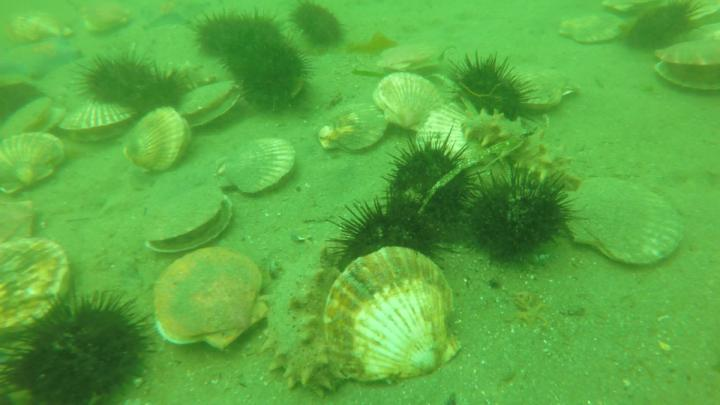echinus: (465, 170, 573, 267), (329, 197, 453, 276), (388, 131, 469, 240), (226, 33, 309, 107), (446, 49, 530, 119), (78, 47, 157, 108), (620, 1, 706, 57), (190, 7, 252, 62), (287, 2, 349, 56), (129, 71, 189, 116)
holothurian: (262, 224, 352, 394), (461, 105, 580, 191)
scallop: (329, 244, 467, 388), (558, 168, 691, 273), (149, 246, 266, 356), (1, 229, 70, 345), (146, 185, 236, 259), (218, 135, 300, 198), (1, 129, 69, 201), (127, 105, 193, 178), (372, 67, 446, 131), (318, 95, 391, 157), (654, 34, 720, 98), (51, 101, 139, 146), (416, 100, 481, 159), (512, 62, 580, 118), (171, 81, 246, 131), (354, 38, 440, 76), (5, 7, 76, 49), (558, 8, 627, 46), (1, 99, 68, 138), (1, 196, 43, 249), (82, 1, 137, 38)
